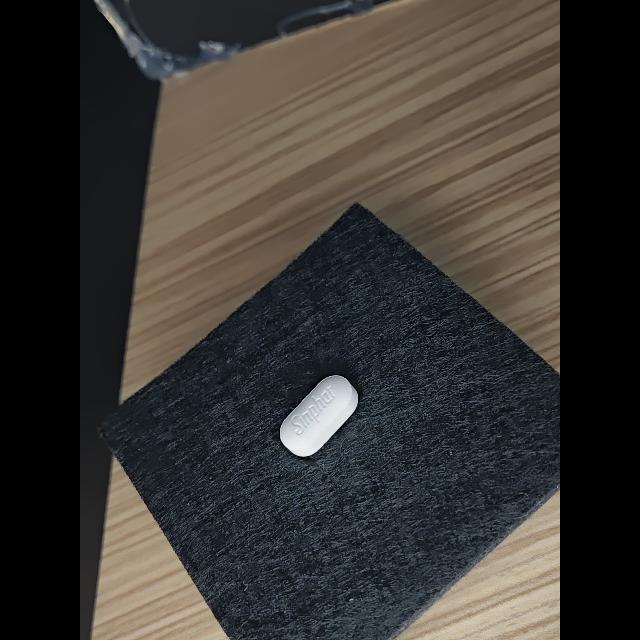Intact Pill: (280, 375, 358, 457)
